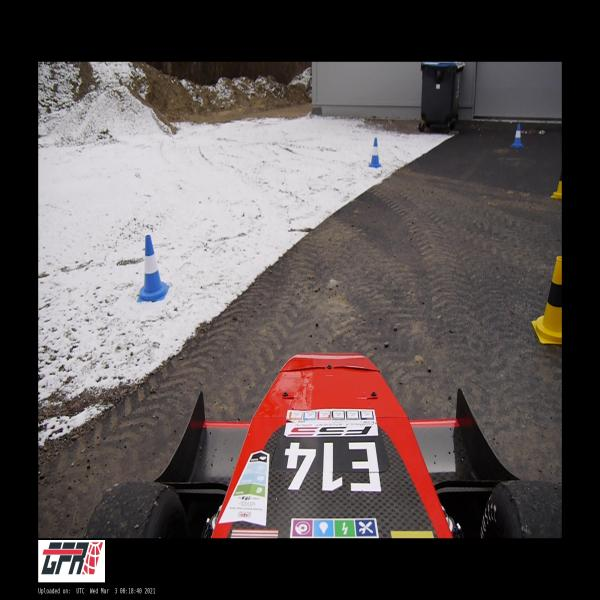blue_cone: (137, 236, 170, 302), (369, 138, 382, 168), (510, 123, 524, 147)
yellow_cone: (531, 256, 562, 344), (550, 168, 562, 199)
